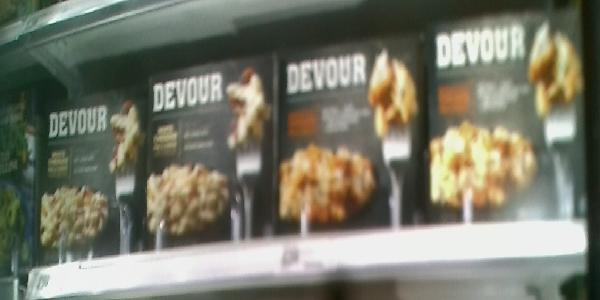pizza1: (427, 14, 587, 216), (279, 33, 427, 227), (149, 58, 276, 241), (40, 99, 140, 251)
